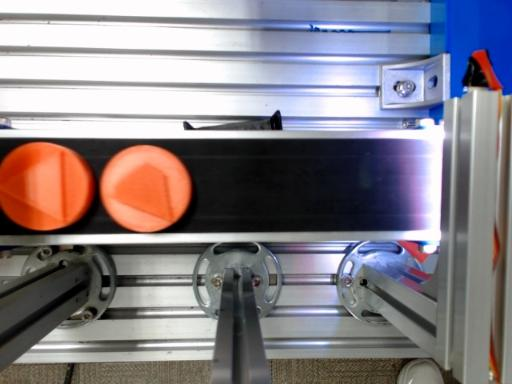Not_Square: (0, 149, 64, 223), (114, 163, 173, 222)
Orange_Waper: (0, 142, 94, 230), (101, 145, 192, 231)
